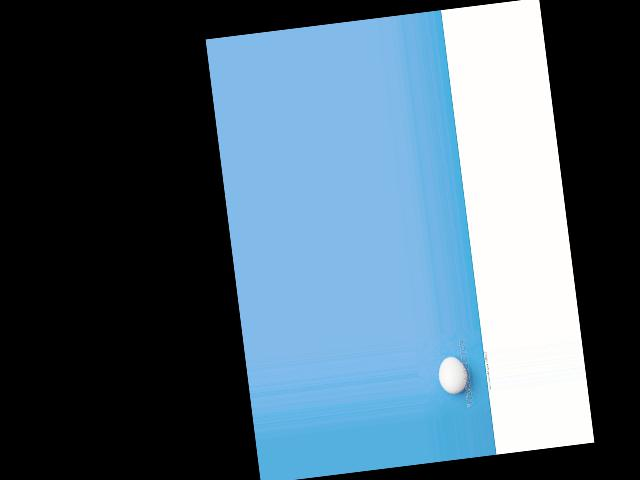egg: (437, 355, 470, 395)
